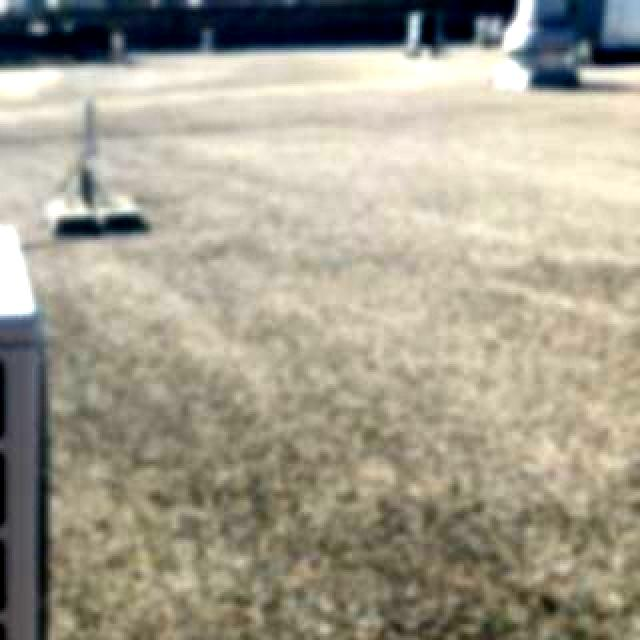SPLIT-SYSTEM: (0, 208, 82, 640)
